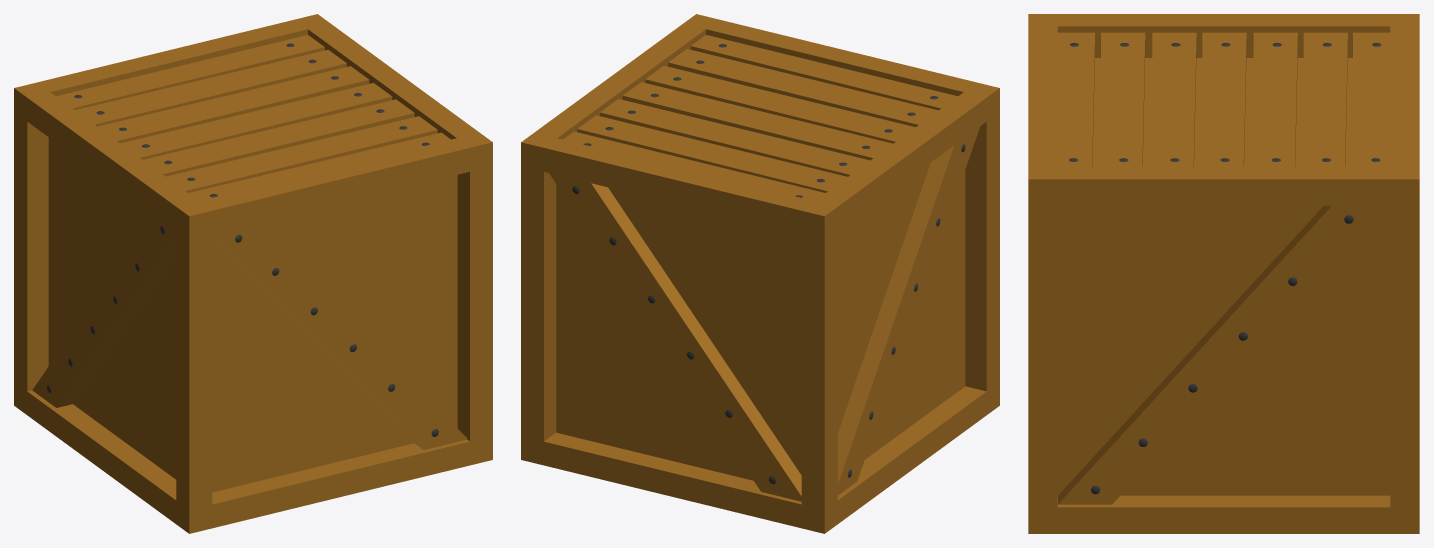
File: Wood_Box_1x1.fbx
3 views of the same model, side by side, from view 1: azimuth 30°, elevation 25°; view 2: azimuth 150°, elevation 25°; view 3: azimuth 270°, elevation 25° (orthographic). The views are drawn at different scales.
Visible parts, largest first — view 1: Wood_Box_1x1; view 2: Wood_Box_1x1; view 3: Wood_Box_1x1.
Part boxes in pixels (box(x1,y1,x2,y2)): Wood_Box_1x1: box(14, 14, 492, 533); Wood_Box_1x1: box(521, 14, 999, 533); Wood_Box_1x1: box(1028, 14, 1419, 533).
Bounding box in the file's own units: 1 × 1 × 1.
